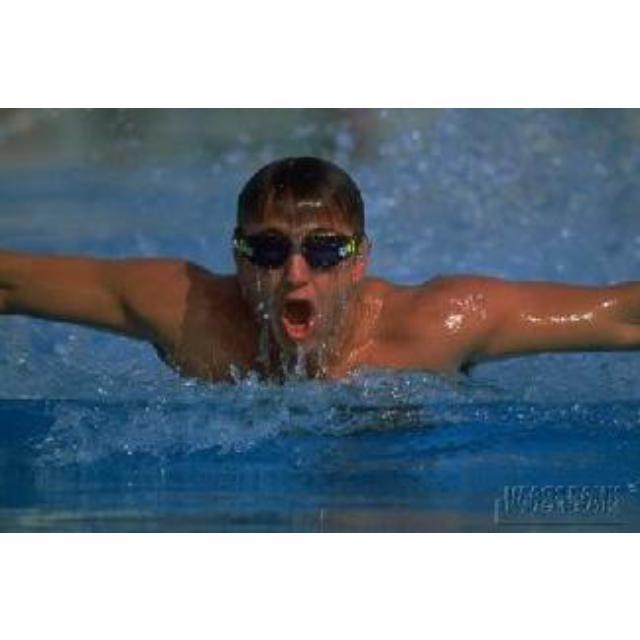human: (1, 155, 639, 395)
